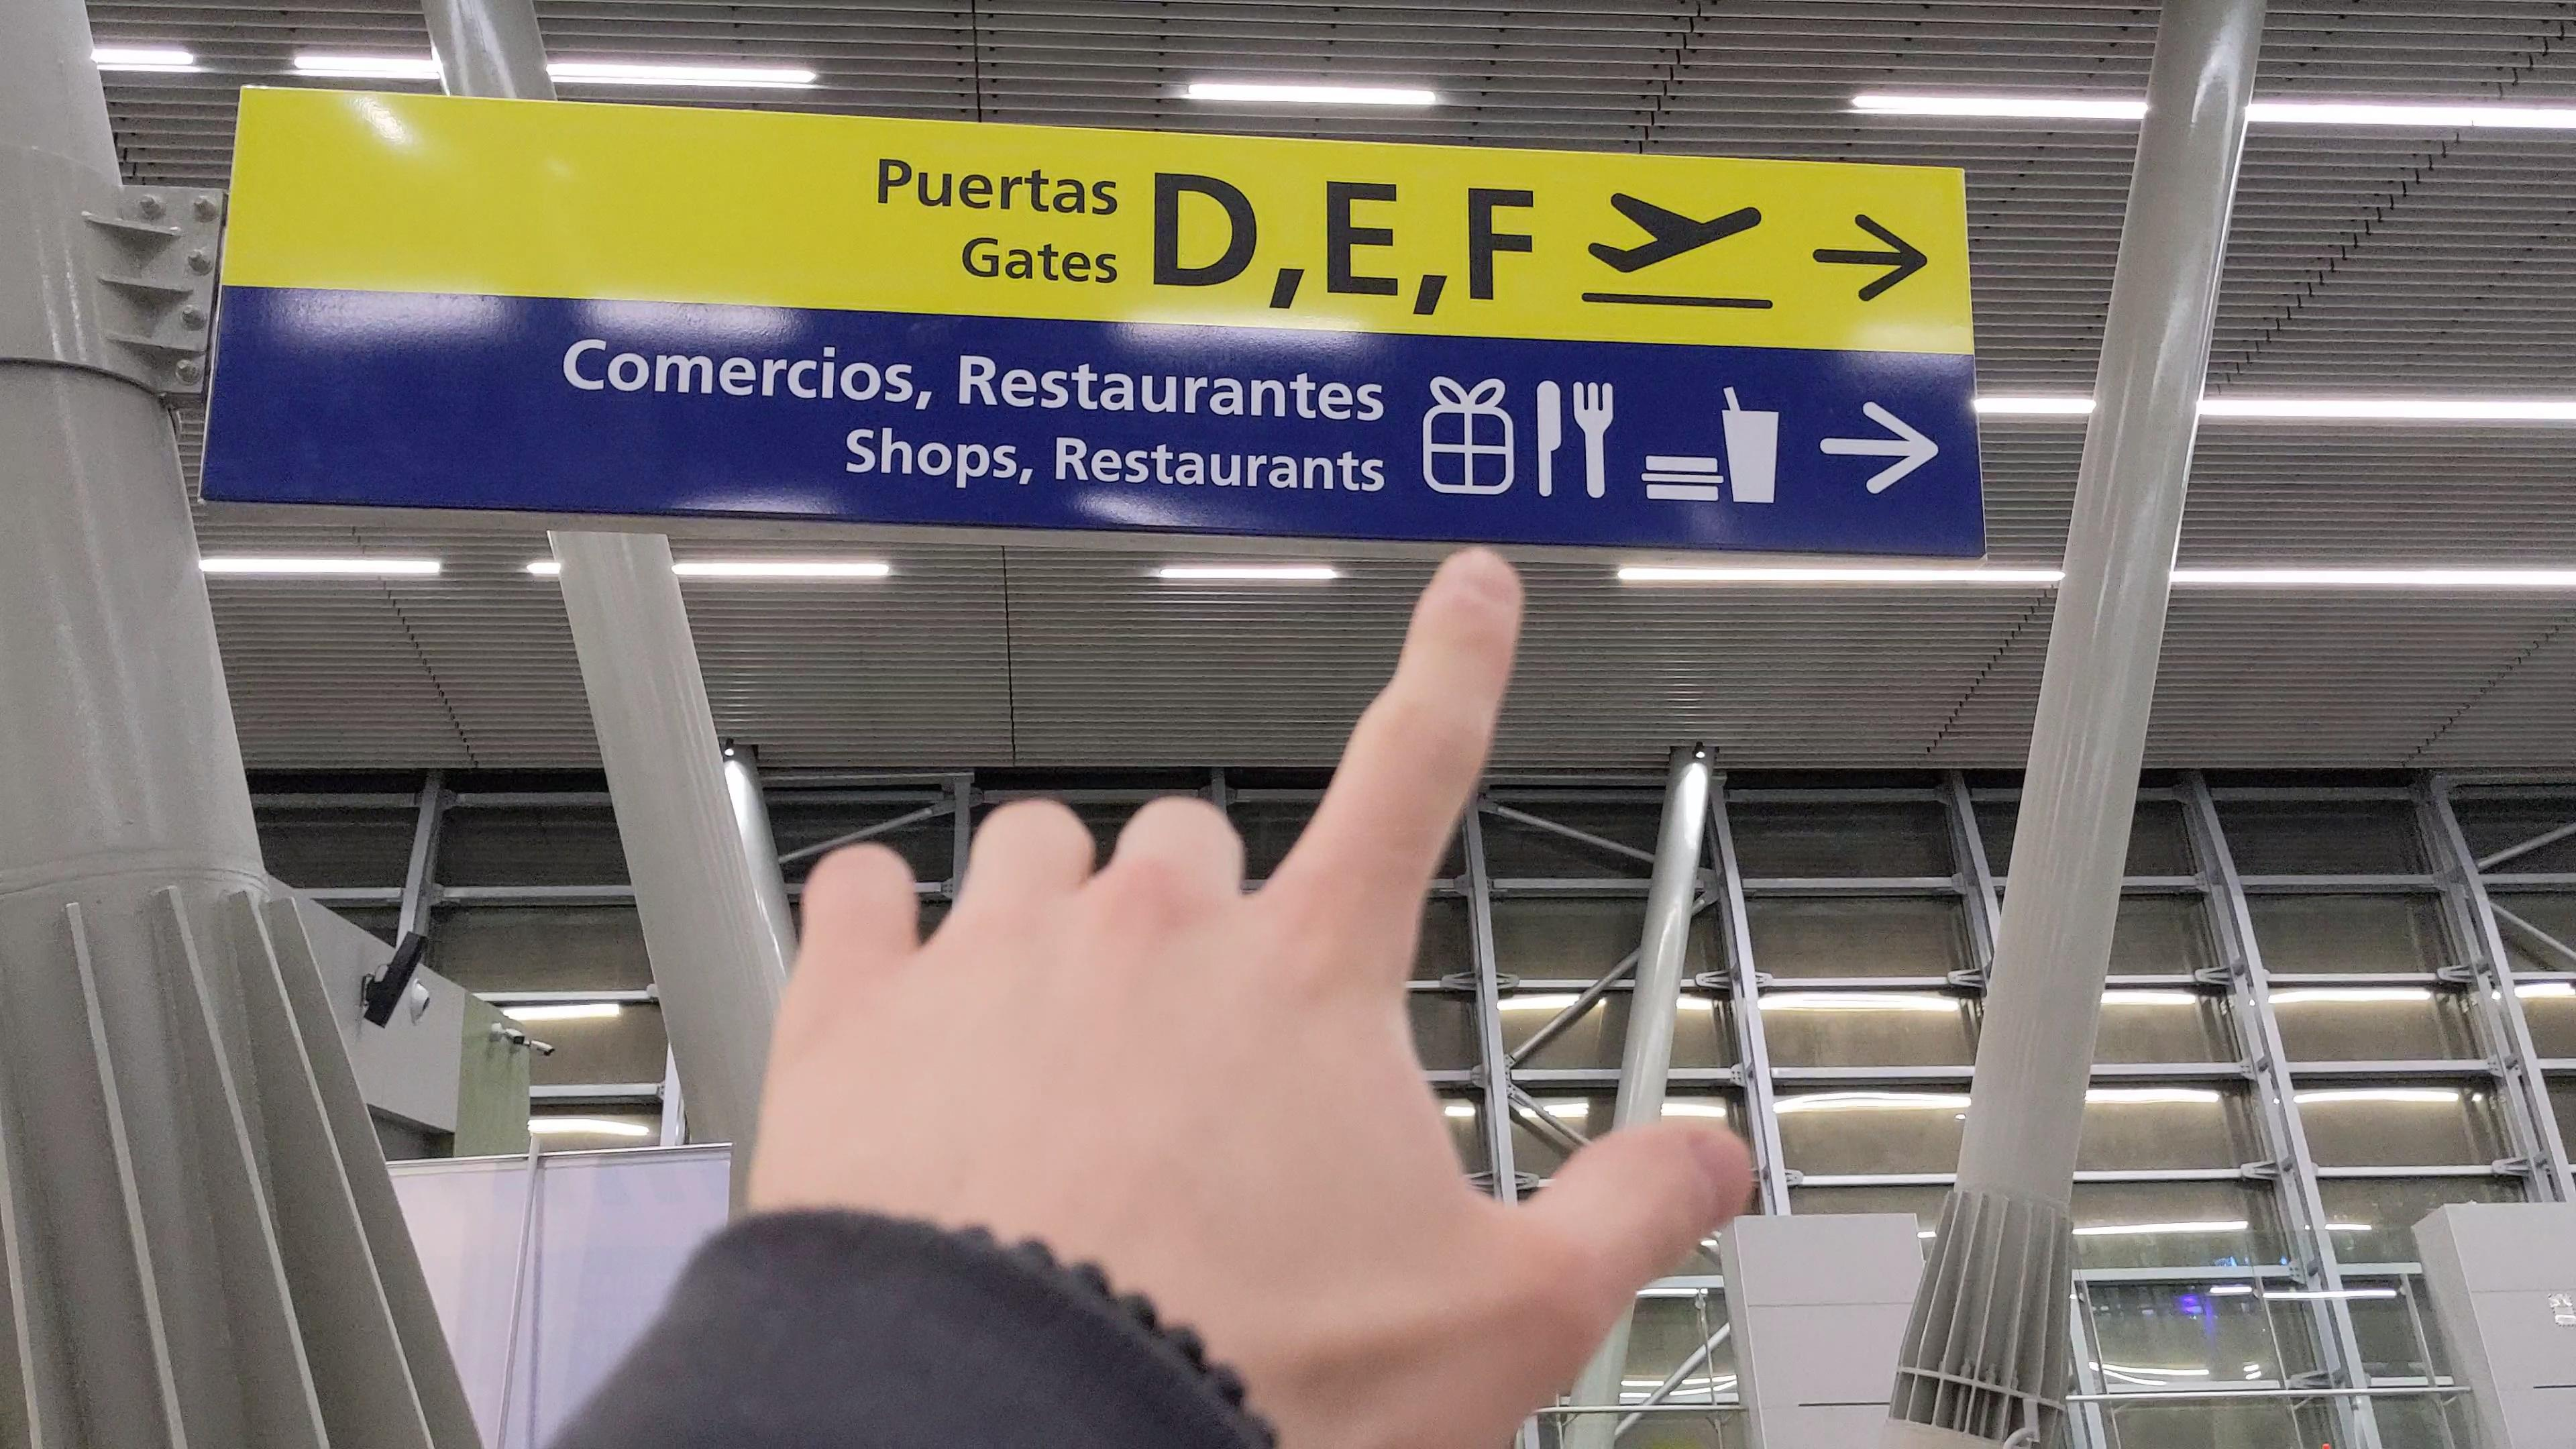airplane symbol: (1585, 189, 1762, 278)
restaurants: (1525, 377, 1622, 502)
thin right arrow: (1815, 398, 1943, 502), (1810, 211, 1932, 306)
